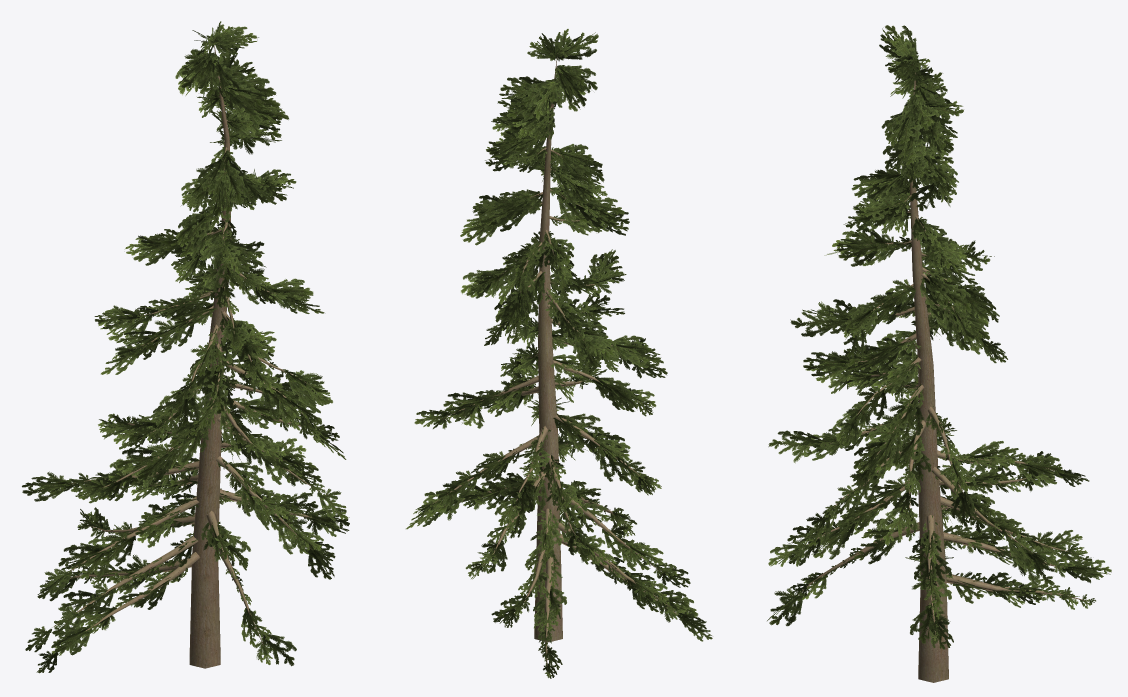
Rendered from tree-eztree-pine.glb.
3 renders of one model, left to right at view 1: azimuth 30°, elevation 25°; view 2: azimuth 150°, elevation 25°; view 3: azimuth 270°, elevation 25°, orthographic. The views are drawn at different scales.
Visible parts, largest first — view 1: leaves, branches; view 2: leaves, branches; view 3: leaves, branches.
Boxes of the visible parts, x1=… form: leaves: x1=22, y1=21, x2=349, y2=673; branches: x1=50, y1=45, x2=336, y2=668; leaves: x1=406, y1=29, x2=712, y2=678; branches: x1=433, y1=53, x2=677, y2=667; leaves: x1=767, y1=25, x2=1111, y2=649; branches: x1=798, y1=55, x2=1087, y2=682.
Size of the model in its own units: 15.81 by 30 by 15.18.
2 materials, 2 textured.
